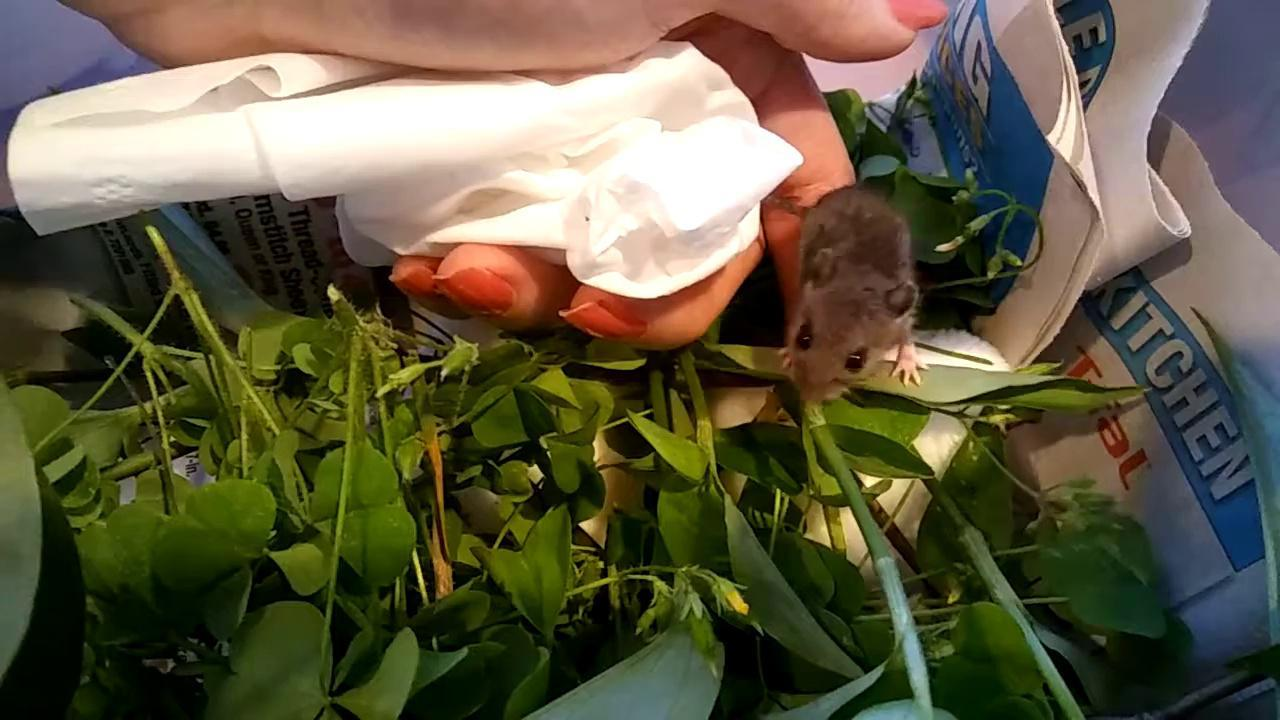rat: (774, 177, 936, 401)
